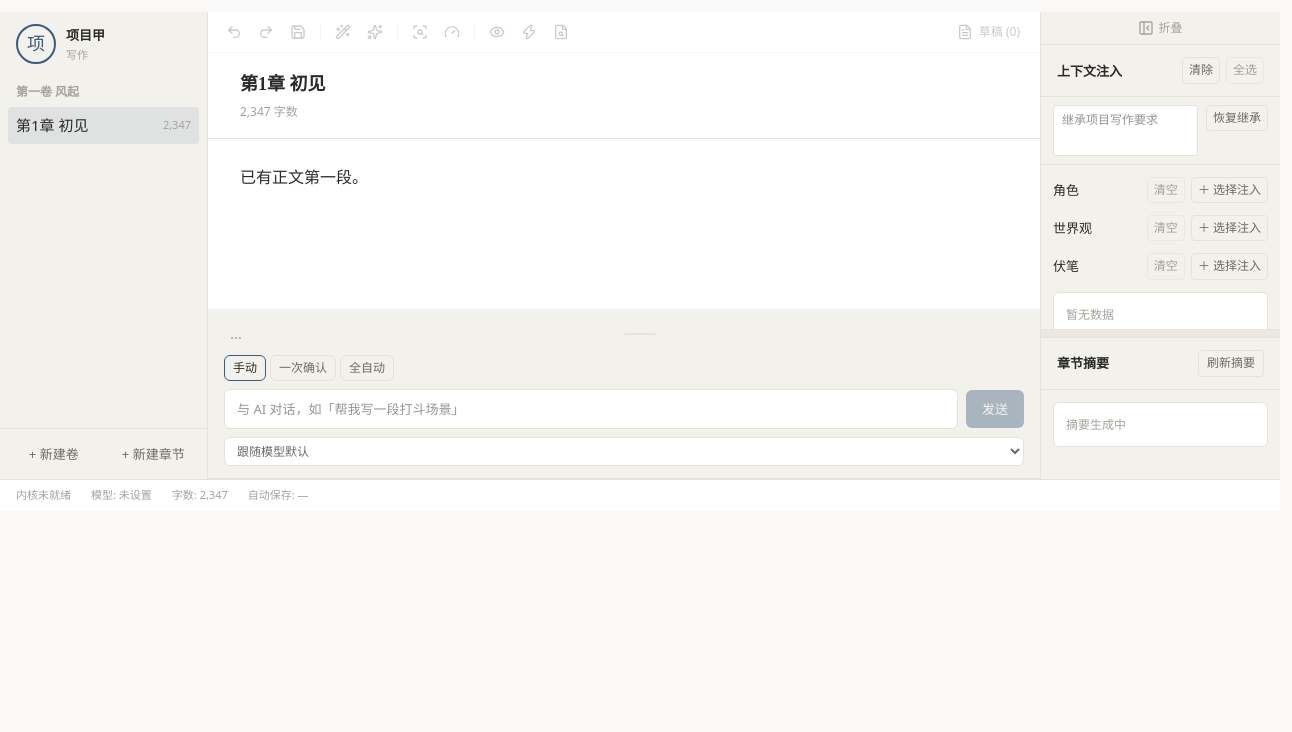
Test: 写作页 — AI 生成后管线输出与 chat 区分渲染（#681 翻转 #642-1） › done → saveChatMessage 落管线产物到会话（#763 覆盖 #681）；仅落章时编辑器 = final_output
Click the button named "生成".
click(375, 32)  # box [361,18,389,46]
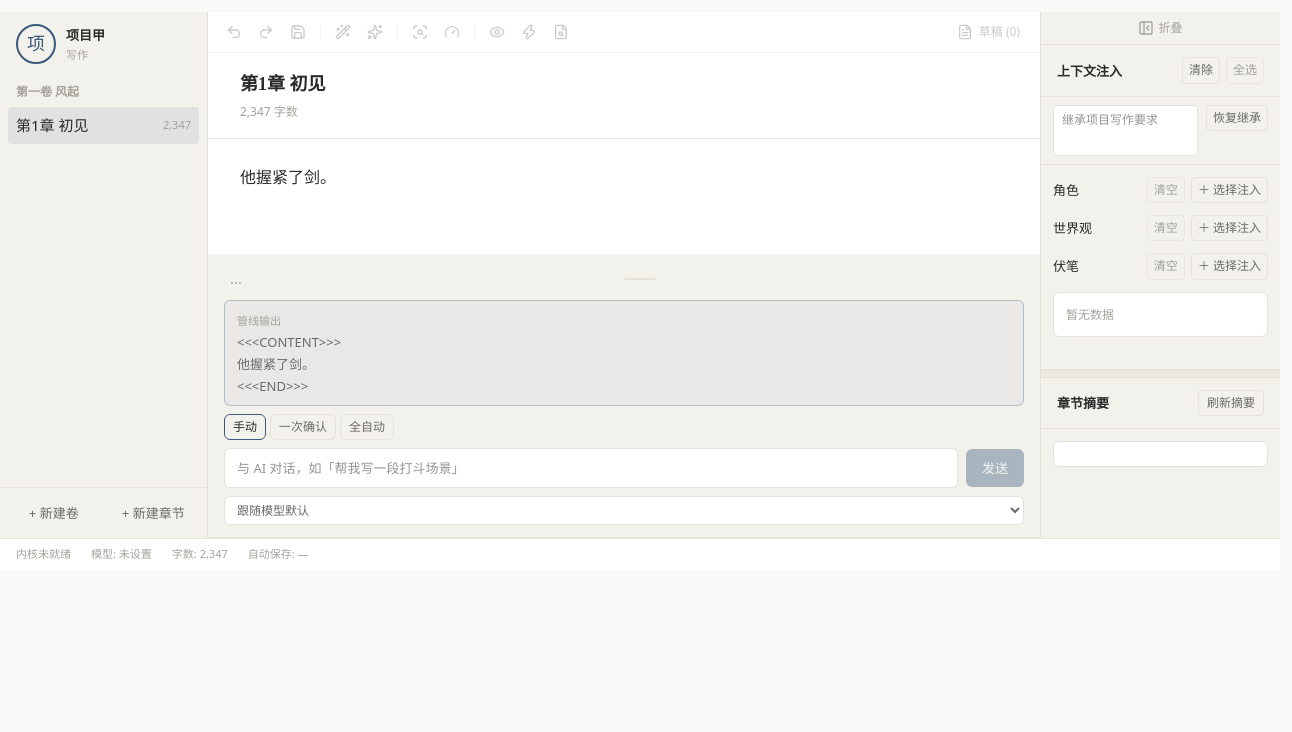
Result: the text box with test id "chapter-editor" holds "他握紧了剑。" at [208,139,1040,254]
